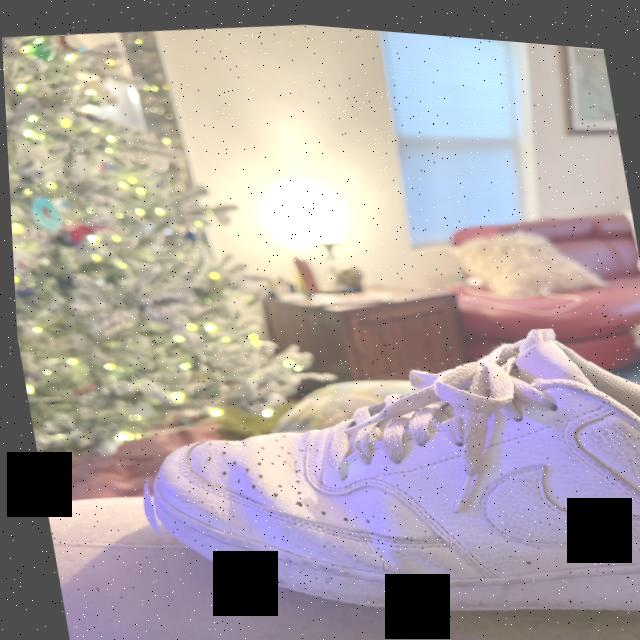shoe: (107, 278, 640, 640)
